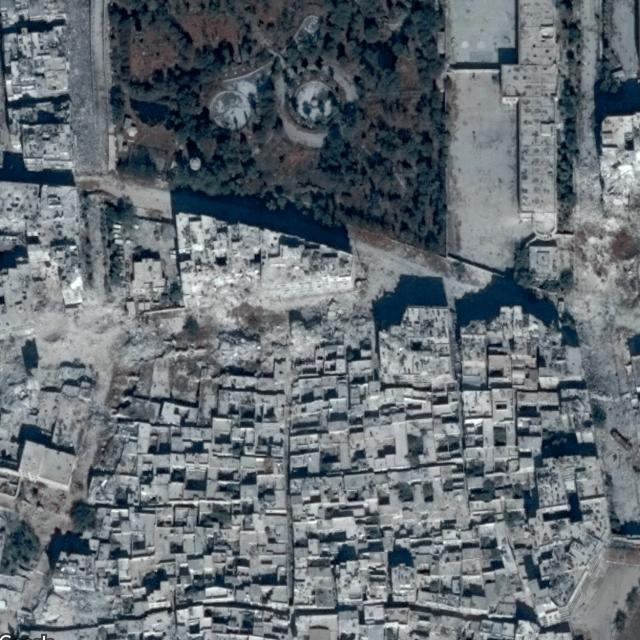damaged_building: (0, 258, 376, 479), (559, 114, 640, 402)
